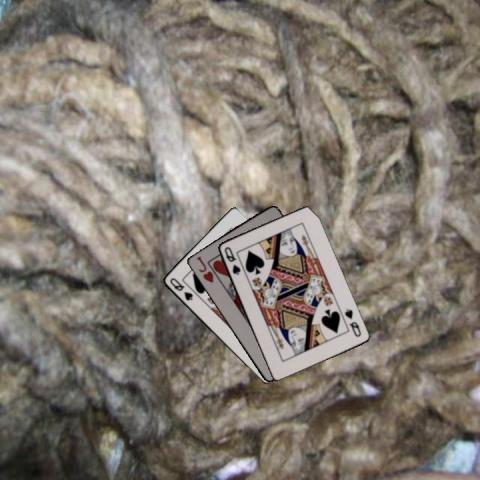Jh: (193, 253, 215, 285)
Qs: (167, 275, 194, 302), (221, 243, 242, 276), (341, 306, 362, 338)
